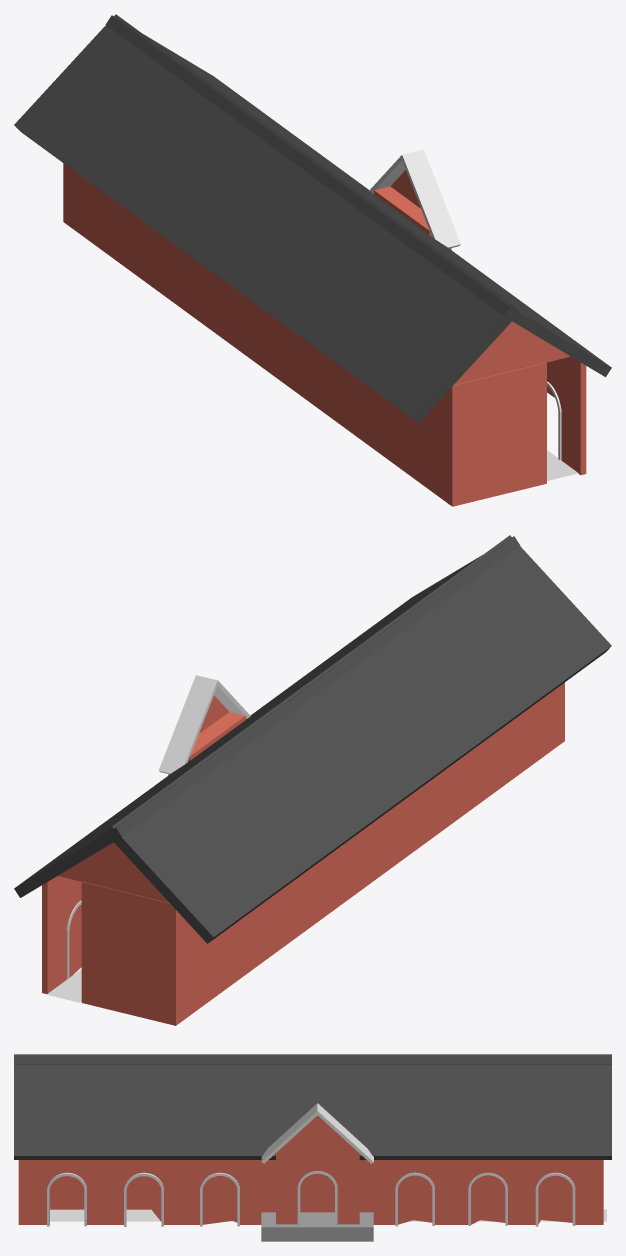
Rendered from 台文系.fbx.
The picture shows the model from 3 angles, top to bottom: view 1: azimuth 30°, elevation 25°; view 2: azimuth 150°, elevation 25°; view 3: azimuth 270°, elevation 25°; orthographic projection. The views are drawn at different scales.
Parts seen in each view (by area): view 1: 立方體.007, 立方體.005, 立方體.001, 立方體.006, 立方體.003; view 2: 立方體.007, 立方體.005, 立方體.001, 立方體.006, 立方體.003; view 3: 立方體.007, 立方體.001, 立方體.003, 立方體.004, 立方體.006, 立方體.005, 立方體.002, 圓柱體.005, 圓柱體.001, 圓柱體.006, 圓柱體, 圓柱體.002 (+2 smaller).
Boxes of the visible parts, left/top/right/bottom form: 立方體.007: left=14, top=14, right=611, bottom=422; 立方體.005: left=63, top=163, right=570, bottom=506; 立方體.001: left=546, top=356, right=586, bottom=475; 立方體.006: left=369, top=149, right=460, bottom=248; 立方體.003: left=374, top=170, right=451, bottom=249; 立方體.007: left=14, top=535, right=611, bottom=943; 立方體.005: left=58, top=682, right=564, bottom=1025; 立方體.001: left=42, top=876, right=81, bottom=993; 立方體.006: left=158, top=675, right=250, bottom=774; 立方體.003: left=168, top=695, right=245, bottom=775; 立方體.007: left=14, top=1054, right=611, bottom=1159; 立方體.001: left=18, top=1160, right=603, bottom=1224; 立方體.003: left=276, top=1115, right=359, bottom=1224; 立方體.004: left=261, top=1212, right=373, bottom=1241; 立方體.006: left=261, top=1103, right=373, bottom=1163; 立方體.005: left=49, top=1180, right=150, bottom=1209; 立方體.002: left=50, top=1209, right=606, bottom=1221; 圓柱體.005: left=535, top=1172, right=575, bottom=1226; 圓柱體.001: left=124, top=1172, right=163, bottom=1226; 圓柱體.006: left=297, top=1171, right=337, bottom=1224; 圓柱體: left=47, top=1172, right=86, bottom=1226; 圓柱體.002: left=200, top=1172, right=239, bottom=1226.
Size of the model in its own units: 1456 by 1192 by 4530.
